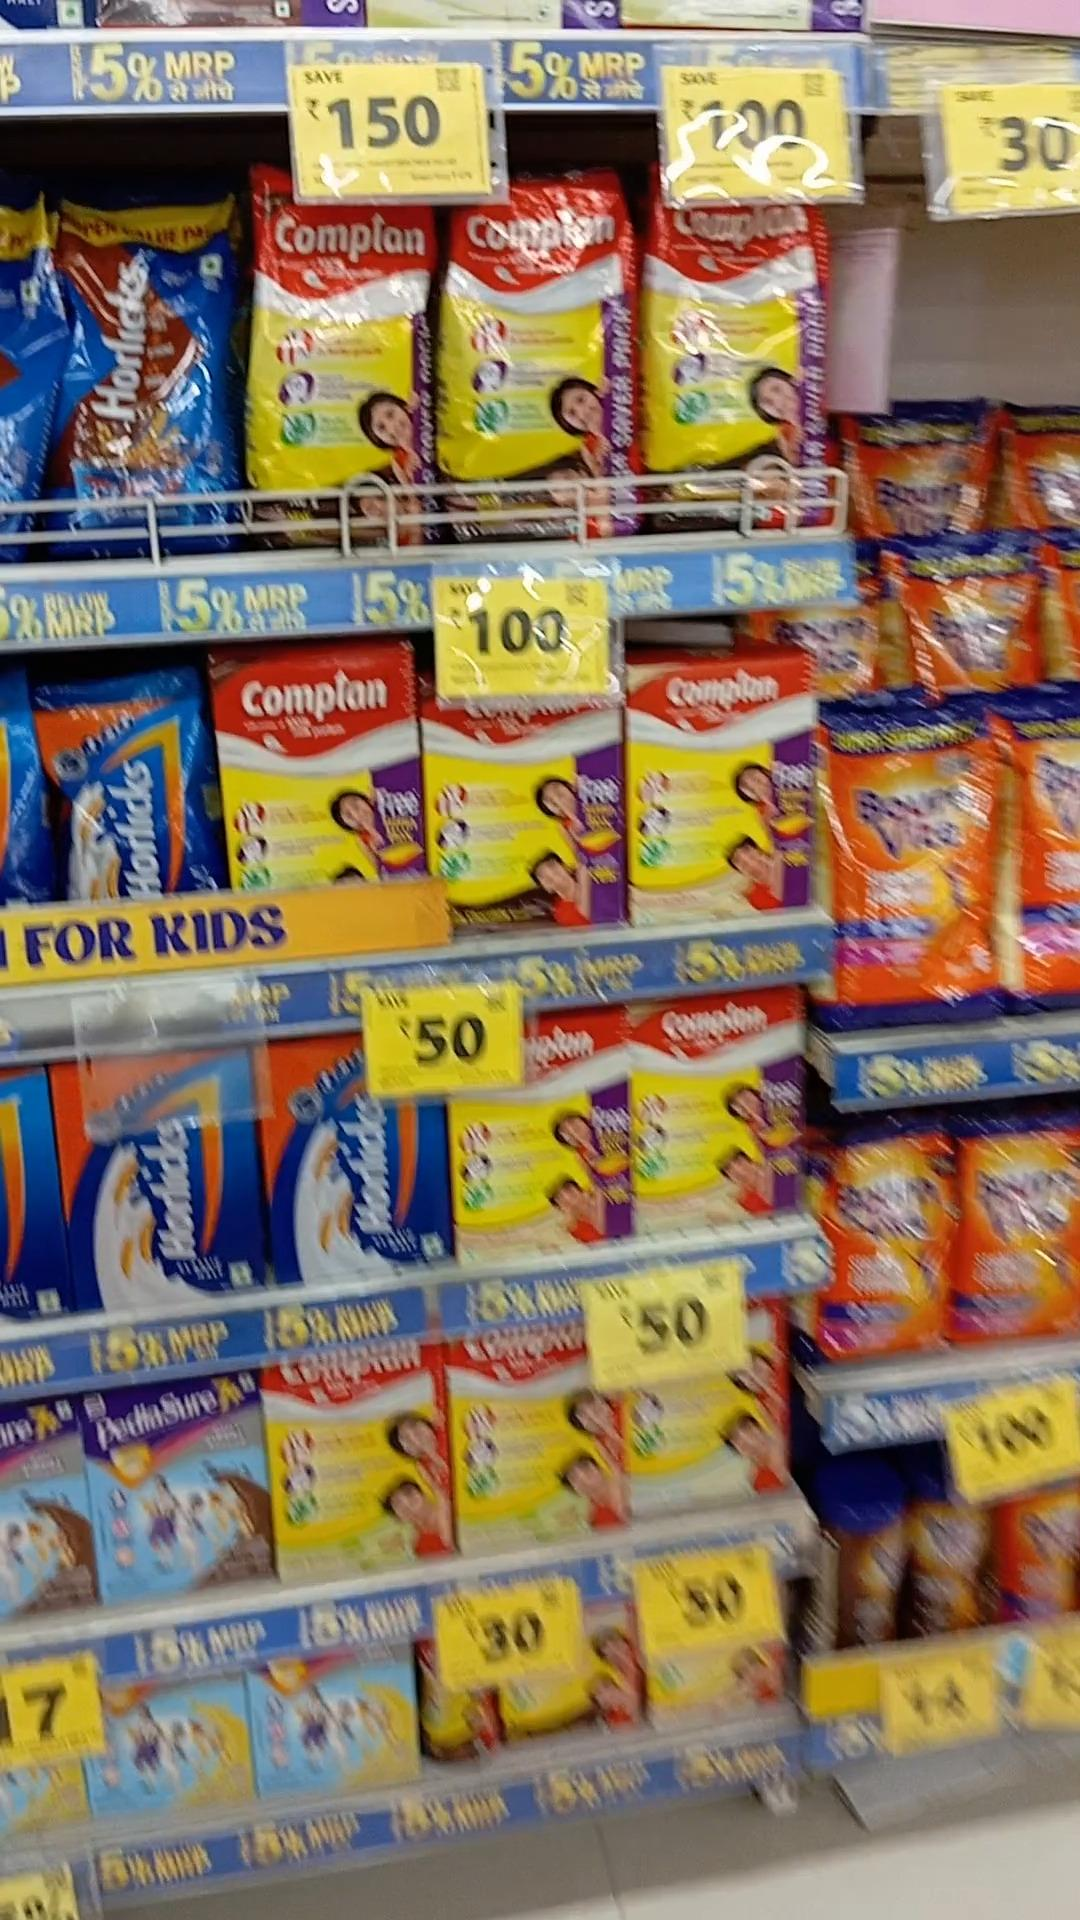BOURN_VITA_1_KG_POUCH: (835, 711, 994, 1036)
BOURN_VITA_750_G_POUCH: (816, 1117, 949, 1381), (959, 1118, 1080, 1356)
COMPLAN_CHOCOLATE_500_GMS_PACK: (418, 670, 621, 964), (222, 645, 405, 899)
COMPLAN_CREAMY_CLASSIC_500_G_PACK: (624, 1344, 796, 1520)
COMPLAN_KESAR_BADAM_500_GMS_PACK: (448, 996, 625, 1259), (634, 662, 807, 930), (638, 992, 803, 1237)
COMPLAN_PISTA_BADAM_500_GMS_PACK: (276, 1346, 458, 1602), (459, 1329, 618, 1555)
COMPLAN_RC_POUCH_700_GMS_12: (436, 157, 641, 531), (248, 150, 425, 547), (651, 178, 823, 533)
HORLICK_CHOCOLATE_750_G_POUCH: (57, 178, 235, 567)
HORLICK_CLASSIC_MALT_500_G_PACK: (66, 1048, 249, 1331), (262, 1019, 436, 1300)
HORLICK_CLASSIC_MALT_750_G_POUCH: (37, 667, 198, 918)
PEDIASURE_7_PLUS_CHOCOLATE_400_G_PACK: (103, 1374, 262, 1602)
